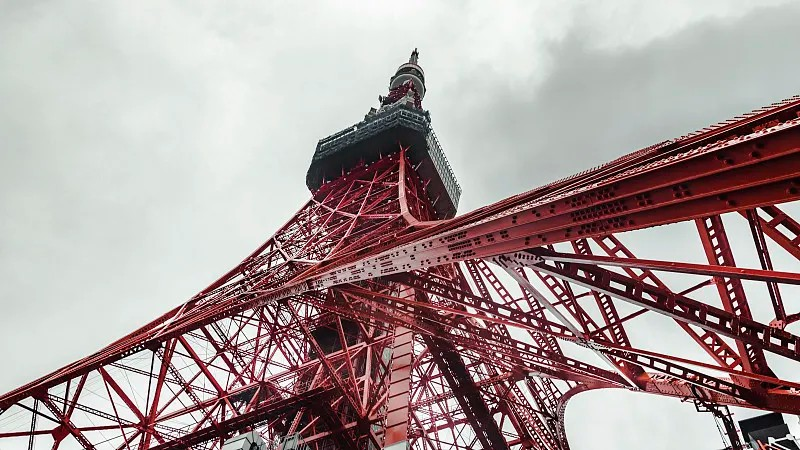Tokyo: (1, 45, 800, 448)
